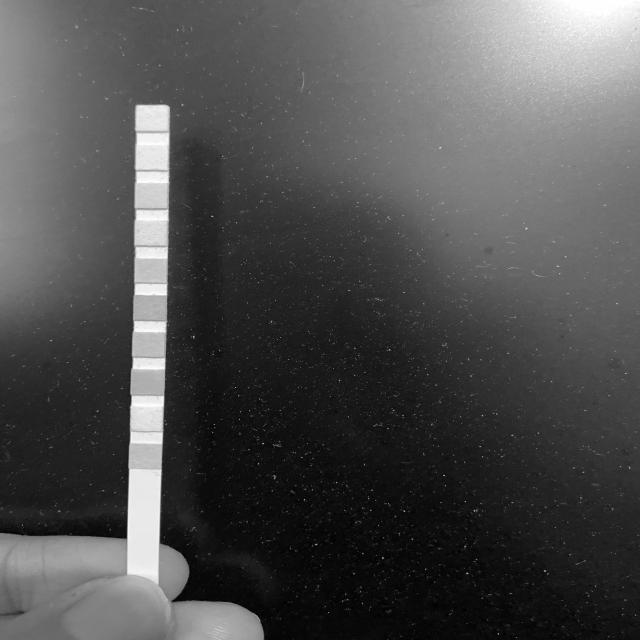Bilirubin: (130, 407, 163, 431)
Blood: (134, 296, 167, 320)
Glucose: (130, 444, 162, 468)
Ketone: (132, 370, 164, 394)
Leukocytes: (136, 106, 168, 131)
Nitrite: (136, 145, 168, 171)
Protein: (135, 221, 168, 245)
SpGravity: (133, 332, 165, 358)
Urobilinogen: (136, 184, 168, 208)
background: (0, 0, 640, 640)
pH: (135, 259, 167, 283)
strip: (127, 106, 169, 542)
